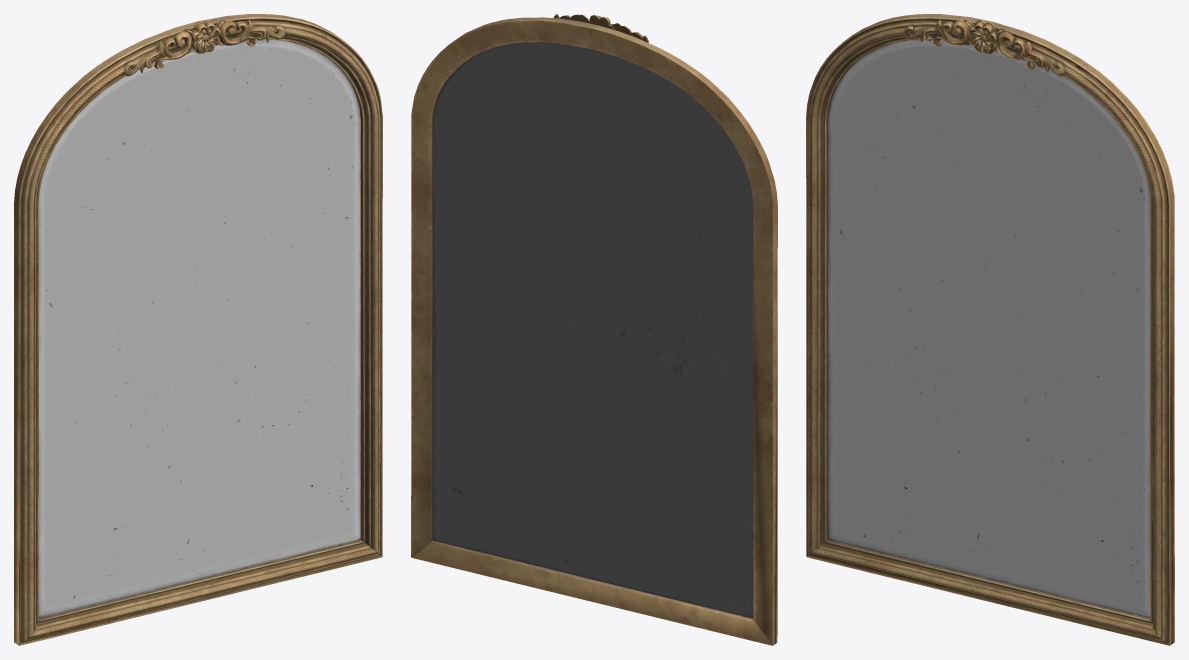
The model's file is ornate_mirror_01.glb.
The picture shows the model from 3 angles, left to right: view 1: azimuth 30°, elevation 25°; view 2: azimuth 150°, elevation 25°; view 3: azimuth 330°, elevation 25°; orthographic projection.
Parts seen in each view (by area): view 1: ornate_mirror_01; view 2: ornate_mirror_01; view 3: ornate_mirror_01.
Boxes of the visible parts, x1,y1,x2,y2 form: ornate_mirror_01: [14, 14, 382, 645]; ornate_mirror_01: [411, 14, 777, 645]; ornate_mirror_01: [806, 14, 1174, 645].
Bounding box in the file's own units: 0.4865 × 0.7442 × 0.026.
Materials: 1 (1 with a texture image).
